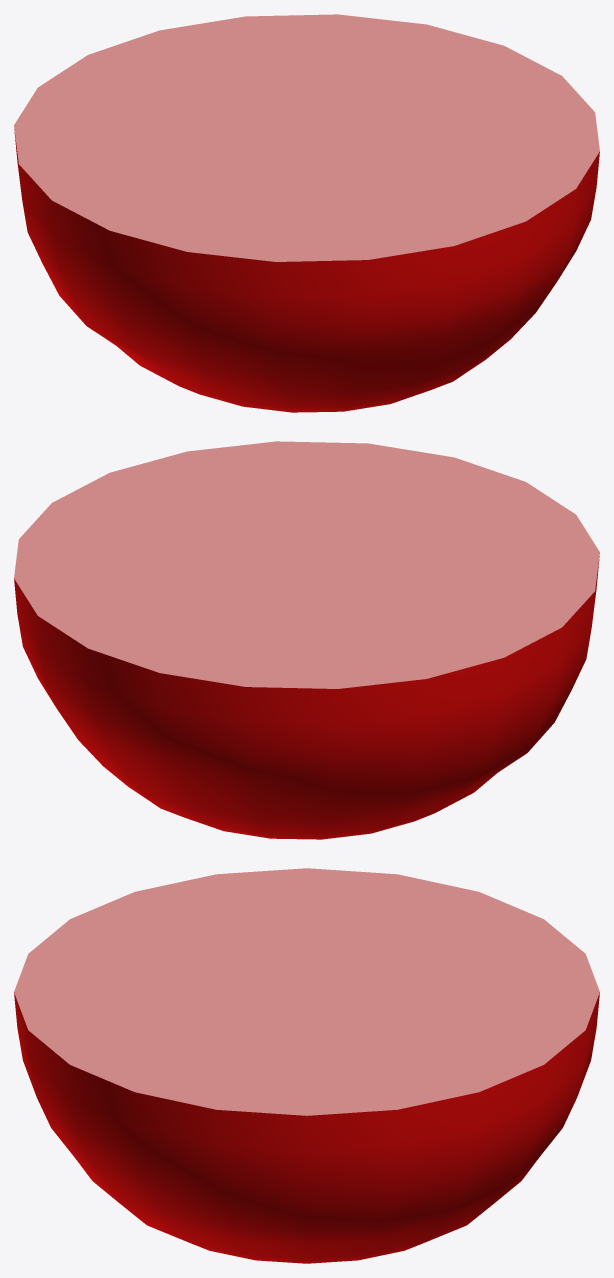
Rendered from tomato_bottom.fbx.
The picture shows the model from 3 angles, top to bottom: view 1: azimuth 30°, elevation 25°; view 2: azimuth 150°, elevation 25°; view 3: azimuth 270°, elevation 25°; orthographic projection.
Parts seen in each view (by area): view 1: pasted__polySurface1; view 2: pasted__polySurface1; view 3: pasted__polySurface1.
Part boxes in pixels (box(x1,y1,x2,y2)): pasted__polySurface1: box(14, 14, 599, 412); pasted__polySurface1: box(14, 441, 599, 839); pasted__polySurface1: box(14, 868, 599, 1263).
Size of the model in its own units: 1.64 by 0.6984 by 1.64.
